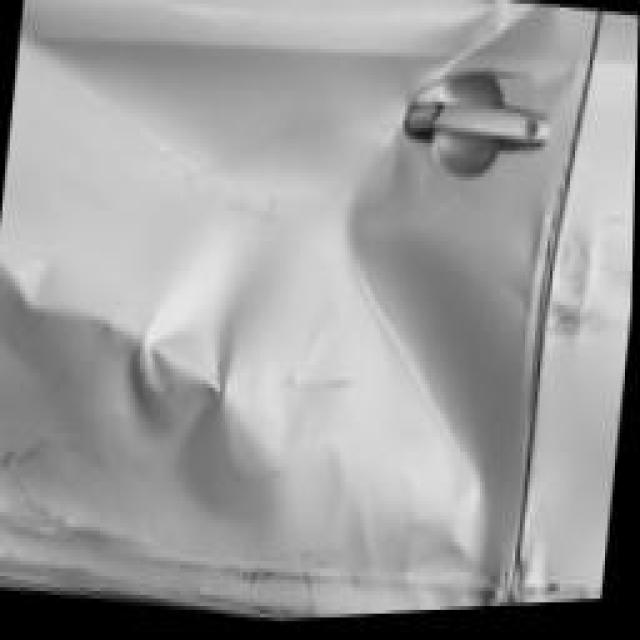Door: (0, 0, 578, 640), (518, 211, 635, 612)
